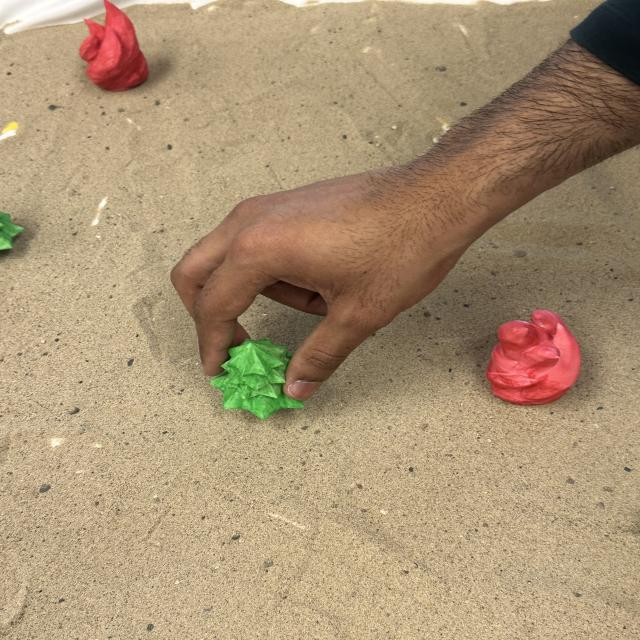fire: (484, 307, 582, 406), (76, 1, 151, 92)
tree: (207, 336, 305, 420), (0, 212, 21, 252)
